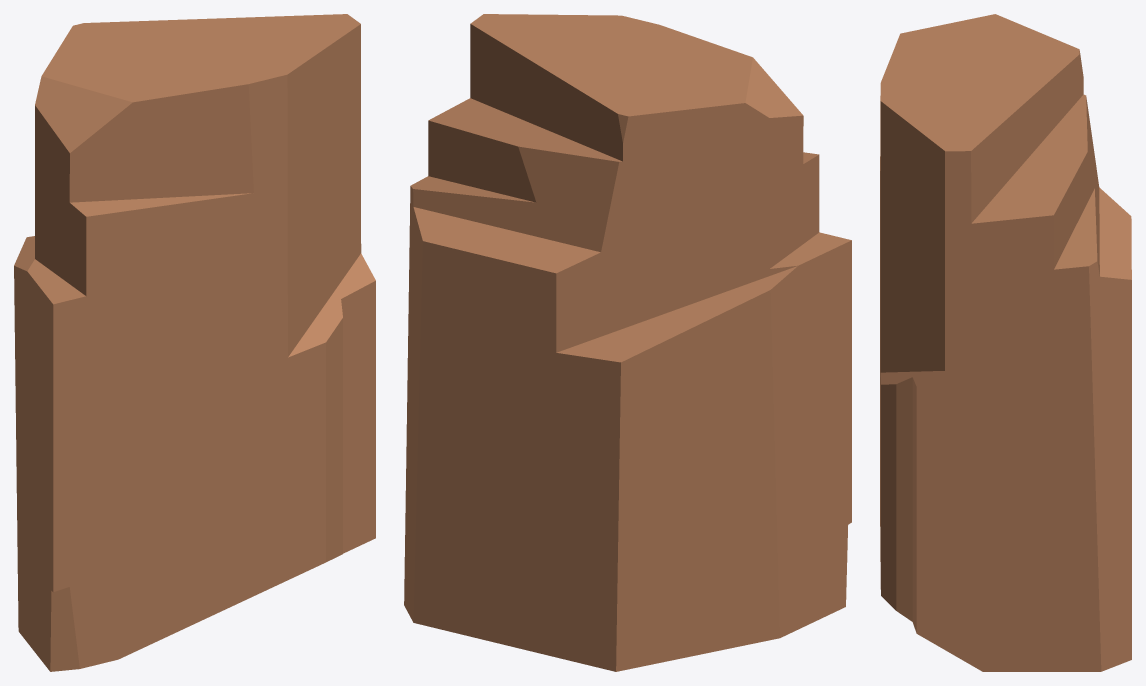
Rendered from DesertRockBig_02.fbx.
The picture shows the model from 3 angles, left to right: view 1: azimuth 30°, elevation 25°; view 2: azimuth 150°, elevation 25°; view 3: azimuth 270°, elevation 25°; orthographic projection. The views are drawn at different scales.
Visible parts, largest first — view 1: Cube.007; view 2: Cube.007; view 3: Cube.007.
Part boxes in pixels (x1,y1,x2,y2): Cube.007: (14,14,375,671); Cube.007: (404,14,851,671); Cube.007: (880,14,1131,671).
Bounding box in the file's own units: 372 × 564 × 247.
